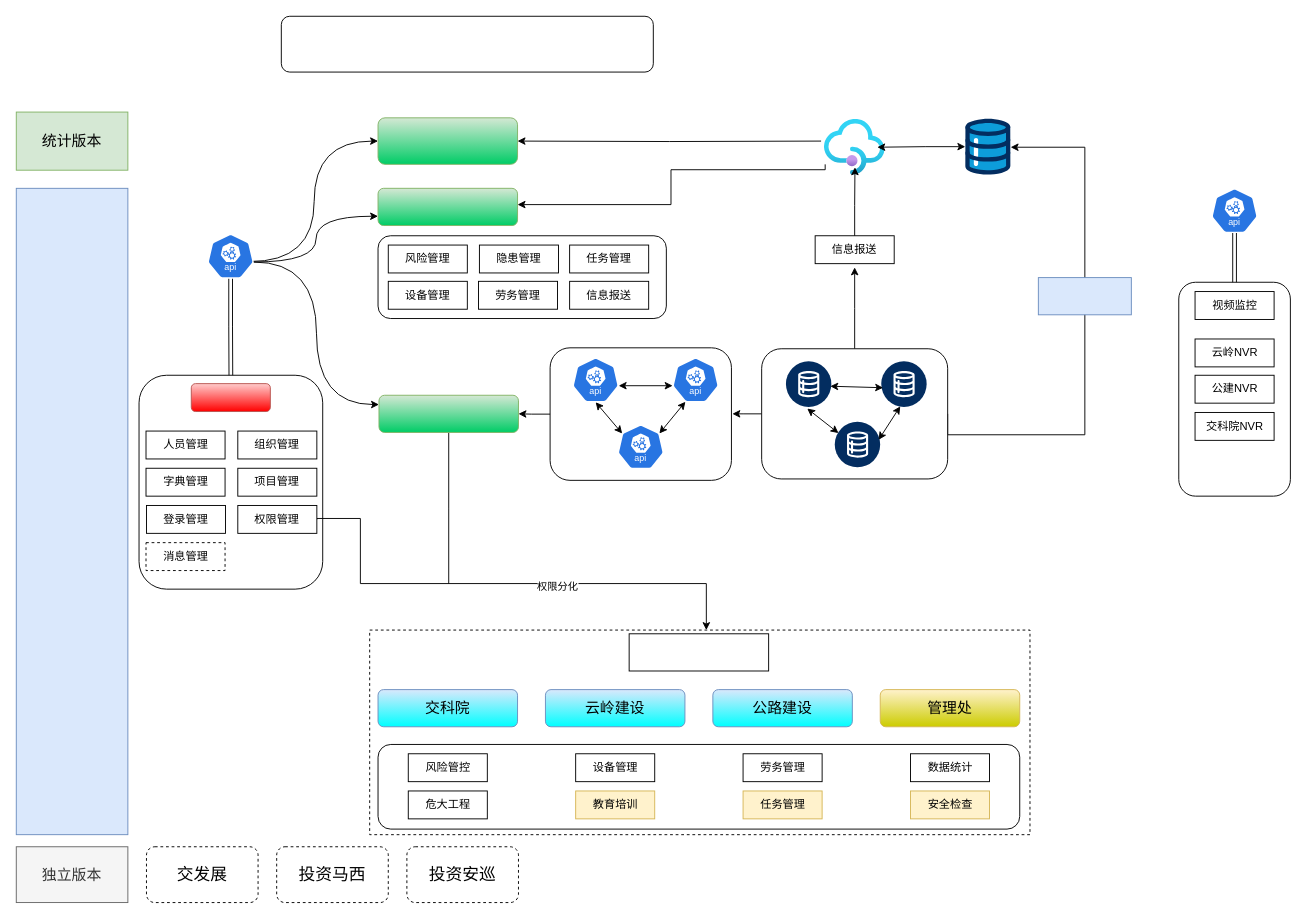
The diagram is 1307 pixels wide and 919 high, and some of its shapes have lost their labels. The centre of each missing label's shape, as x and y in pixels:
"ETL抽取" belongs at [1084,296].
"一部手机管安全5.0架构" belongs at [466,43].
"业务版本" belongs at [71,511].
"业务通用版" belongs at [448,413].
"二级单位业务板块" belongs at [698,652].
"关键施工风险防控" belongs at [447,140].
"系统管理" belongs at [230,397].
"集团版" belongs at [447,206].
